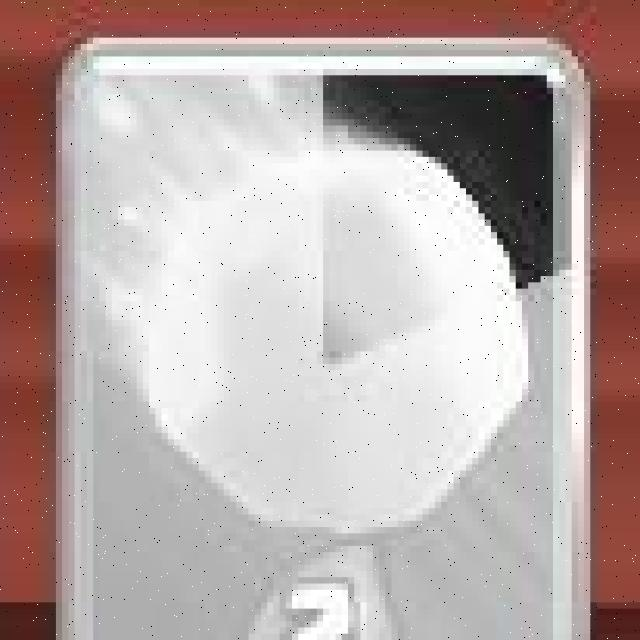Snowball: (48, 38, 588, 640)
